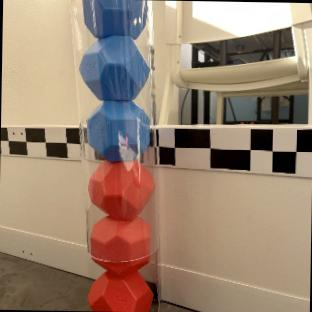V5_BLUE: (79, 0, 151, 161), (79, 33, 148, 100), (86, 100, 149, 159)
V5_RED: (87, 159, 154, 218), (89, 213, 150, 271), (89, 268, 151, 311)
